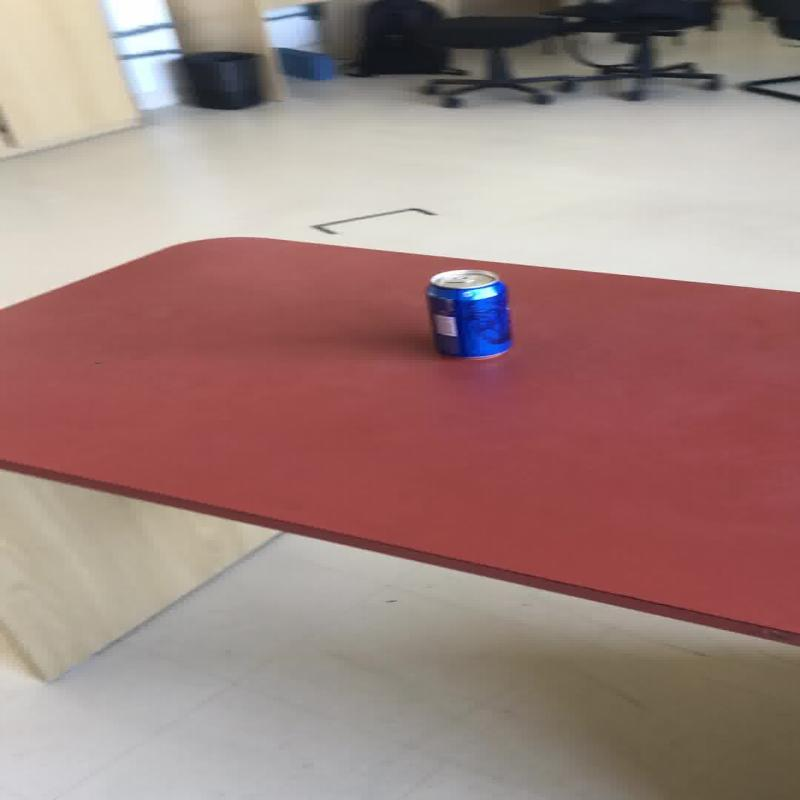tonic: (423, 268, 512, 359)
